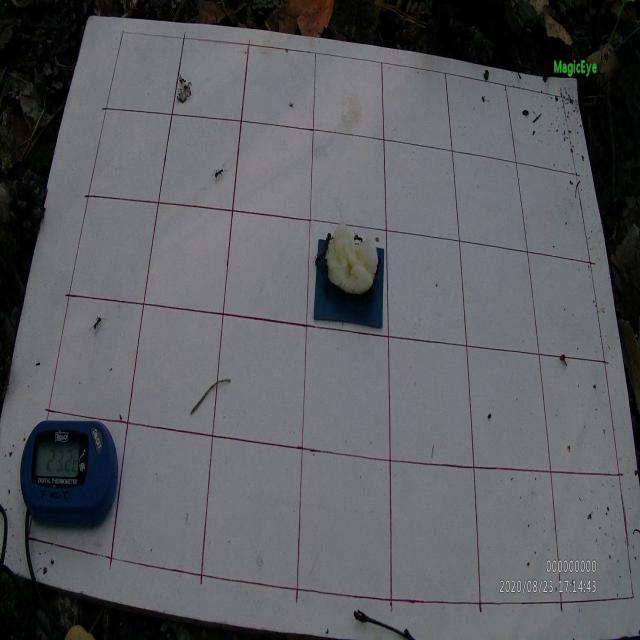Ant: (89, 315, 106, 336), (212, 163, 227, 183), (313, 250, 327, 268), (324, 232, 336, 252), (354, 232, 364, 245)
